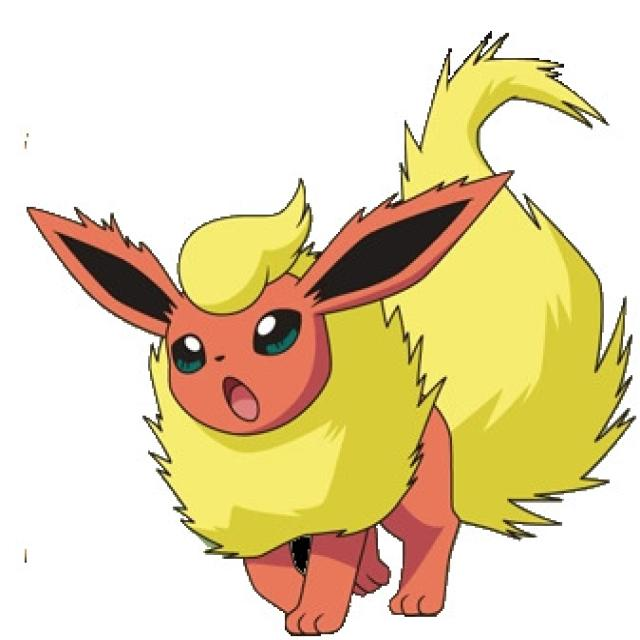Flareon: (122, 199, 468, 617)
